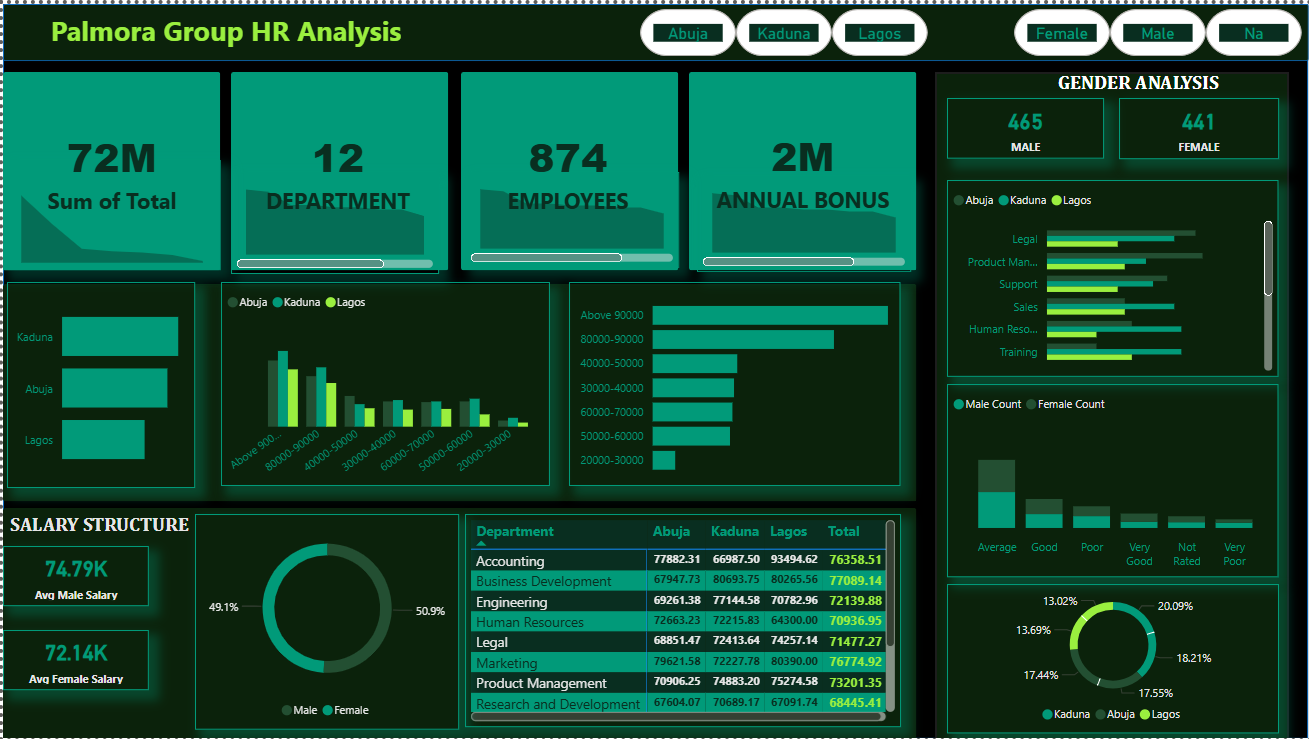

What the dashboard file says about the page in this screenshot:
{"tool":"powerbi","page":{"name":"Page 1","canvas":[1280,720],"ordinal":0},"visuals":[{"type":"shape","box":[0,0,1279.5,720.5],"z":0},{"type":"shape","box":[0,0,1280.2,56],"z":1000},{"type":"shape","box":[0,494.5,895.6,227.5],"z":2000},{"type":"shape","box":[914.3,67,347.3,658.2],"z":3000},{"type":"shape","box":[0,273.6,895.6,213.2],"z":4000},{"type":"shape","box":[0,67,213.2,194.5],"z":5000},{"type":"shape","box":[223.1,67,213.2,194.5],"z":6000},{"type":"shape","box":[448.4,67,213.2,194.5],"z":7000},{"type":"shape","box":[672.5,67,223.1,194.5],"z":8000},{"type":"textbox","box":[962.7,61.2,300,64.2],"z":8001},{"type":"card","fields":{"Values":["Merge1.Male Count"]},"box":[924.5,92.8,154.1,59.7],"z":8002},{"type":"card","fields":{"Values":["Merge1.Female Count"]},"box":[1093.4,92.6,156.9,59.9],"z":8003},{"type":"clusteredBarChart","fields":{"Category":["Merge1.Department"],"Series":["Merge1.Location"],"Y":["Merge1.Male Count"]},"box":[925,172.7,325,193.2],"z":8004},{"type":"columnChart","fields":{"Y":["Merge1.Male Count","Merge1.Female Count"],"Category":["Merge1.Rating"]},"box":[924.5,372.3,325.2,189.3],"z":8005},{"type":"donutChart","fields":{"Category":["Merge1.Location"],"Y":["Merge1.Male Count","Merge1.Female Count"]},"box":[924.7,569.4,325.6,146.6],"z":8006},{"type":"card","fields":{"Values":["Merge1.Avg Male Salary"]},"box":[0,531.4,143.1,58.8],"z":8007},{"type":"card","fields":{"Values":["Merge1.Avg Female Salary"]},"box":[0,613.7,143.1,58.8],"z":8008},{"type":"textbox","box":[0,494.5,189.1,63.6],"z":8009},{"type":"pivotTable","fields":{"Rows":["Merge1.Department"],"Columns":["Merge1.Location"],"Values":["Avg(Merge1.Salary)"]},"box":[452.3,500,427.3,209.1],"z":8010},{"type":"donutChart","fields":{"Y":["Avg(Merge1.Salary)"],"Category":["Merge1.Gender"]},"box":[188.6,500,259.1,211.4],"z":8011},{"type":"clusteredBarChart","fields":{"Category":["Merge1.Salary_range"],"Y":["CountNonNull(Merge1.Name)"]},"box":[554.5,272.7,325,200],"z":8012},{"type":"clusteredColumnChart","fields":{"Category":["Merge1.Salary_range"],"Y":["CountNonNull(Merge1.Location)"],"Series":["Merge1.Location"]},"box":[213.6,272.7,322.7,200],"z":8013},{"type":"advancedSlicerVisual","fields":{"Values":["Merge1.Gender"]},"box":[986.4,0,293.2,56.8],"z":8014},{"type":"lineChart","fields":{"Y":["Sum(Merge1.Salary)"],"Category":["Merge1.Salary_range"]},"box":[0,152.9,213.7,107.8],"z":8015},{"type":"card","fields":{"Values":["Sum(Merge1.Total)"]},"box":[0,66.7,213.7,194.1],"z":8016},{"type":"card","fields":{"Values":["Count(Merge1.Department)"]},"box":[221.6,66.7,213.7,194.1],"z":8017},{"type":"lineChart","fields":{"Y":["CountNonNull(Merge1.Gender)"],"Category":["Merge1.Department"]},"box":[223.5,164.7,203.9,100],"z":8018},{"type":"card","fields":{"Values":["Count(Merge1.Name)"]},"box":[447.1,66.7,213.7,194.1],"z":8019},{"type":"lineChart","fields":{"Category":["Merge1.Department"],"Y":["CountNonNull(Merge1.Name)"]},"box":[452.9,164.7,209.8,94.1],"z":8020},{"type":"card","fields":{"Values":["Sum(Merge1.Annual_bounce)"]},"box":[672.5,66.7,223.5,192.2],"z":8021},{"type":"lineChart","fields":{"Category":["Merge1.Department"],"Y":["CountNonNull(Merge1.Name)"]},"box":[680.4,168.6,209.8,94.1],"z":8022},{"type":"textbox","box":[0,2,437.3,64.7],"z":8023},{"type":"clusteredBarChart","fields":{"Category":["Merge1.Location"],"Y":["Sum(Merge1.Total)"]},"box":[3.9,272.5,184.3,202],"z":8024},{"type":"advancedSlicerVisual","fields":{"Values":["Merge1.Location"]},"box":[619.6,0,294.1,56.9],"z":8025}]}

Visuals, with their boxes in screenshot pixels (x1, y1, x2, y2), scaled from the page's 1280x720 canvas onto the 1309x739 screenshot:
shape: [x1=0, y1=0, x2=1308, y2=738]
shape: [x1=0, y1=0, x2=1308, y2=57]
shape: [x1=0, y1=508, x2=916, y2=738]
shape: [x1=935, y1=69, x2=1290, y2=738]
shape: [x1=0, y1=281, x2=916, y2=500]
shape: [x1=0, y1=69, x2=218, y2=268]
shape: [x1=228, y1=69, x2=446, y2=268]
shape: [x1=459, y1=69, x2=677, y2=268]
shape: [x1=688, y1=69, x2=916, y2=268]
textbox: [x1=985, y1=63, x2=1291, y2=129]
card - Merge1.Male Count: [x1=945, y1=95, x2=1103, y2=157]
card - Merge1.Female Count: [x1=1118, y1=95, x2=1279, y2=157]
clusteredBarChart - Merge1.Department x Merge1.Location: [x1=946, y1=177, x2=1278, y2=376]
columnChart - Merge1.Male Count x Merge1.Female Count: [x1=945, y1=382, x2=1278, y2=576]
donutChart - Merge1.Location x Merge1.Male Count: [x1=946, y1=584, x2=1279, y2=735]
card - Merge1.Avg Male Salary: [x1=0, y1=545, x2=146, y2=606]
card - Merge1.Avg Female Salary: [x1=0, y1=630, x2=146, y2=690]
textbox: [x1=0, y1=508, x2=193, y2=573]
pivotTable - Merge1.Department x Merge1.Location: [x1=463, y1=513, x2=900, y2=728]
donutChart - Avg(Merge1.Salary) x Merge1.Gender: [x1=193, y1=513, x2=458, y2=730]
clusteredBarChart - Merge1.Salary_range x CountNonNull(Merge1.Name): [x1=567, y1=280, x2=899, y2=485]
clusteredColumnChart - Merge1.Salary_range x CountNonNull(Merge1.Location): [x1=218, y1=280, x2=548, y2=485]
advancedSlicerVisual - Merge1.Gender: [x1=1009, y1=0, x2=1308, y2=58]
lineChart - Sum(Merge1.Salary) x Merge1.Salary_range: [x1=0, y1=157, x2=219, y2=268]
card - Sum(Merge1.Total): [x1=0, y1=68, x2=219, y2=268]
card - Count(Merge1.Department): [x1=227, y1=68, x2=445, y2=268]
lineChart - CountNonNull(Merge1.Gender) x Merge1.Department: [x1=229, y1=169, x2=437, y2=272]
card - Count(Merge1.Name): [x1=457, y1=68, x2=676, y2=268]
lineChart - Merge1.Department x CountNonNull(Merge1.Name): [x1=463, y1=169, x2=678, y2=266]
card - Sum(Merge1.Annual_bounce): [x1=688, y1=68, x2=916, y2=266]
lineChart - Merge1.Department x CountNonNull(Merge1.Name): [x1=696, y1=173, x2=910, y2=270]
textbox: [x1=0, y1=2, x2=447, y2=68]
clusteredBarChart - Merge1.Location x Sum(Merge1.Total): [x1=4, y1=280, x2=192, y2=487]
advancedSlicerVisual - Merge1.Location: [x1=634, y1=0, x2=934, y2=58]
